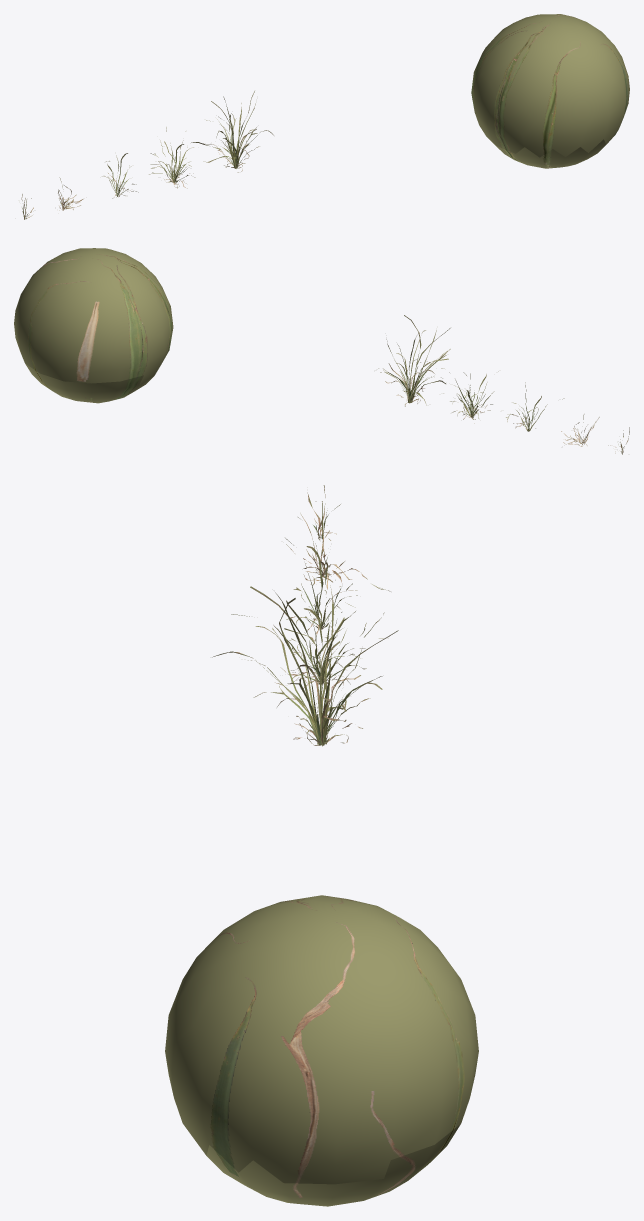
The model's file is field_grass_b_lod1.glb.
3 renders of one model, top to bottom at view 1: azimuth 30°, elevation 25°; view 2: azimuth 150°, elevation 25°; view 3: azimuth 270°, elevation 25°, orthographic. The views are drawn at different scales.
Visible parts, largest first — view 1: blades_lod1, stem_lod1; view 2: blades_lod1, stem_lod1; view 3: blades_lod1, stem_lod1.
Part boxes in pixels (<box>): blades_lod1: <box>21,14,629,219</box>; stem_lod1: <box>490,130,618,168</box>; blades_lod1: <box>14,248,629,454</box>; stem_lod1: <box>25,364,153,403</box>; blades_lod1: <box>165,485,478,1184</box>; stem_lod1: <box>206,1124,460,1206</box>.
Size of the model in its own units: 3.19 by 0.7534 by 0.7176.
1 material, 1 textured.
